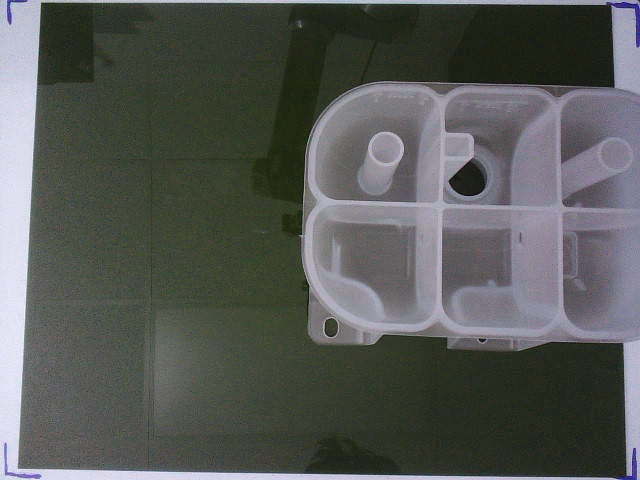reservoir_transparent_Under: (302, 81, 640, 352)
